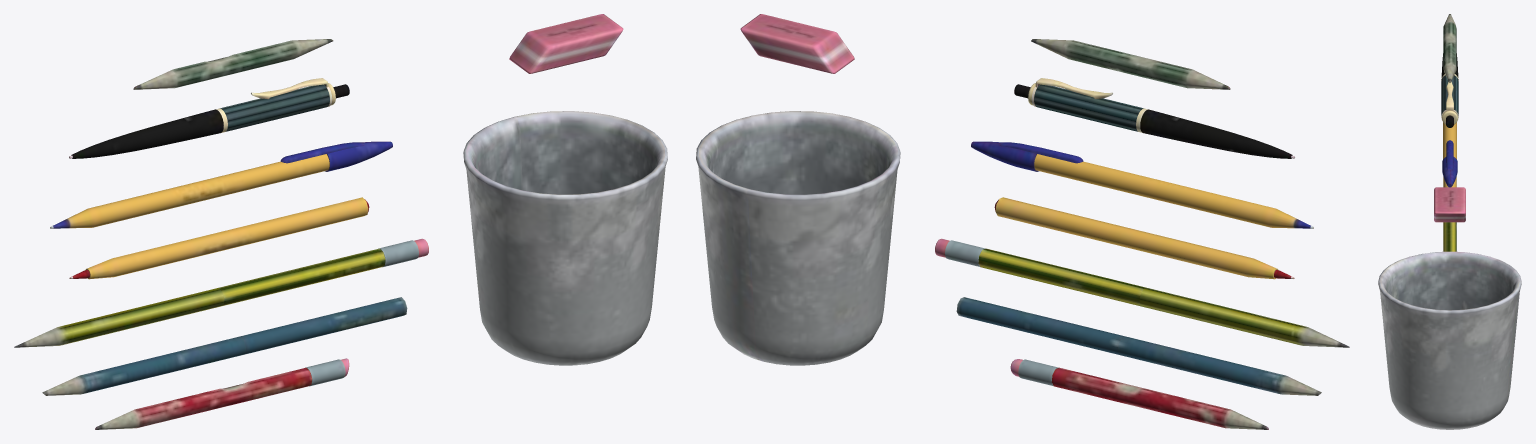
The model's file is stationery_supplies.gltf.
3 views of the same model, side by side, from view 1: azimuth 30°, elevation 25°; view 2: azimuth 150°, elevation 25°; view 3: azimuth 270°, elevation 25° (orthographic). The views are drawn at different scales.
Visible parts, largest first — view 1: stationery_supplies_pencilcup, stationery_supplies_pencil_new_a, stationery_supplies_pencil_new_b, stationery_supplies_pen_blue, stationery_supplies_pen_fancy, stationery_supplies_pen_red, stationery_supplies_pencil_used, stationery_supplies_eraser, stationery_supplies_pencil_old; view 2: stationery_supplies_pencilcup, stationery_supplies_pencil_new_a, stationery_supplies_pencil_new_b, stationery_supplies_pen_blue, stationery_supplies_pen_fancy, stationery_supplies_pen_red, stationery_supplies_pencil_used, stationery_supplies_eraser, stationery_supplies_pencil_old; view 3: stationery_supplies_pencilcup, stationery_supplies_eraser, stationery_supplies_pen_fancy, stationery_supplies_pen_blue, stationery_supplies_pencil_old, stationery_supplies_pencil_new_a.
Boxes of the visible parts, <box> form: stationery_supplies_pencilcup: <box>463,111,667,365</box>; stationery_supplies_pencil_new_a: <box>14,238,428,347</box>; stationery_supplies_pencil_new_b: <box>42,297,407,395</box>; stationery_supplies_pen_blue: <box>50,141,392,228</box>; stationery_supplies_pen_fancy: <box>69,78,349,158</box>; stationery_supplies_pen_red: <box>69,197,369,279</box>; stationery_supplies_pencil_used: <box>95,358,349,429</box>; stationery_supplies_eraser: <box>509,14,623,73</box>; stationery_supplies_pencil_old: <box>133,39,333,89</box>; stationery_supplies_pencilcup: <box>696,111,900,365</box>; stationery_supplies_pencil_new_a: <box>935,238,1349,347</box>; stationery_supplies_pencil_new_b: <box>956,297,1321,395</box>; stationery_supplies_pen_blue: <box>971,141,1313,228</box>; stationery_supplies_pen_fancy: <box>1014,78,1294,158</box>; stationery_supplies_pen_red: <box>994,197,1294,279</box>; stationery_supplies_pencil_used: <box>1010,359,1268,429</box>; stationery_supplies_eraser: <box>740,14,854,73</box>; stationery_supplies_pencil_old: <box>1031,39,1230,89</box>; stationery_supplies_pencilcup: <box>1378,251,1521,429</box>; stationery_supplies_eraser: <box>1434,187,1465,222</box>; stationery_supplies_pen_fancy: <box>1441,53,1458,127</box>; stationery_supplies_pen_blue: <box>1442,122,1457,187</box>; stationery_supplies_pencil_old: <box>1443,14,1456,82</box>; stationery_supplies_pencil_new_a: <box>1443,222,1456,251</box>.
Size of the model in its own units: 0.3019 by 0.1643 by 0.0837.
Materials: 1 (1 with a texture image).
